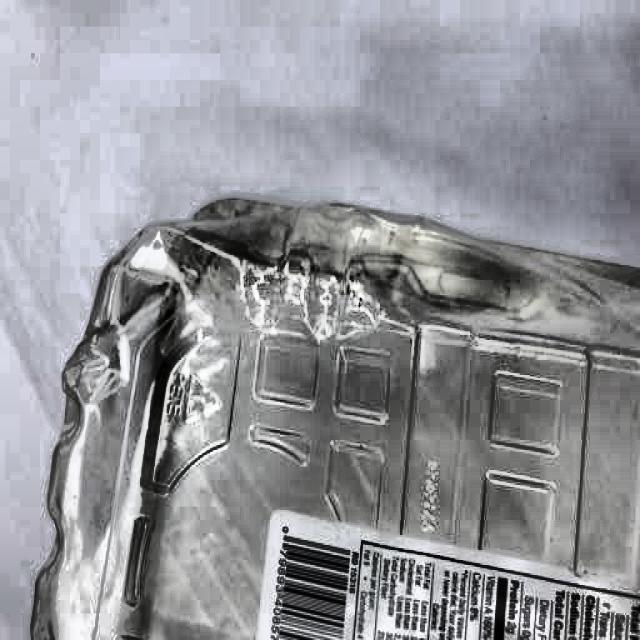plastic: (32, 195, 640, 638)
